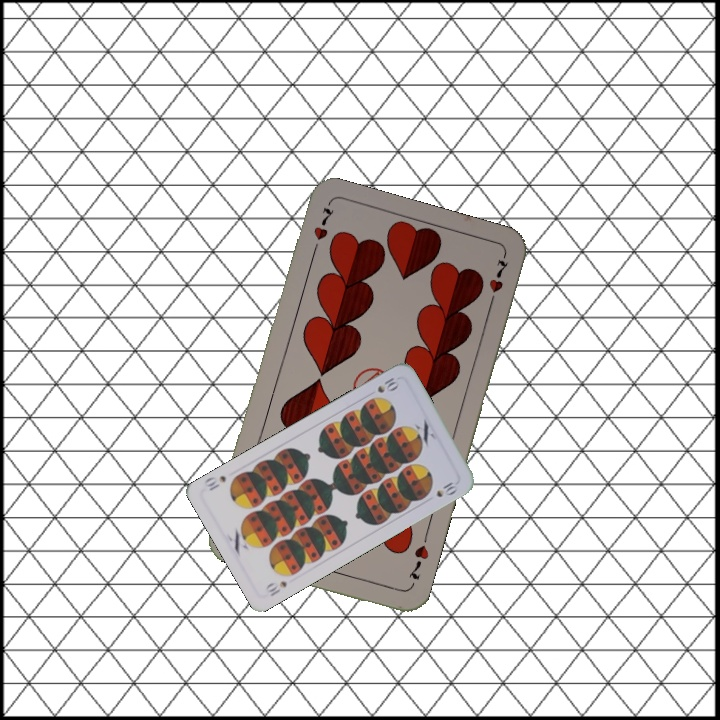H7: (308, 203, 337, 259), (404, 541, 432, 582)
S10: (373, 373, 402, 396), (262, 577, 290, 599)
